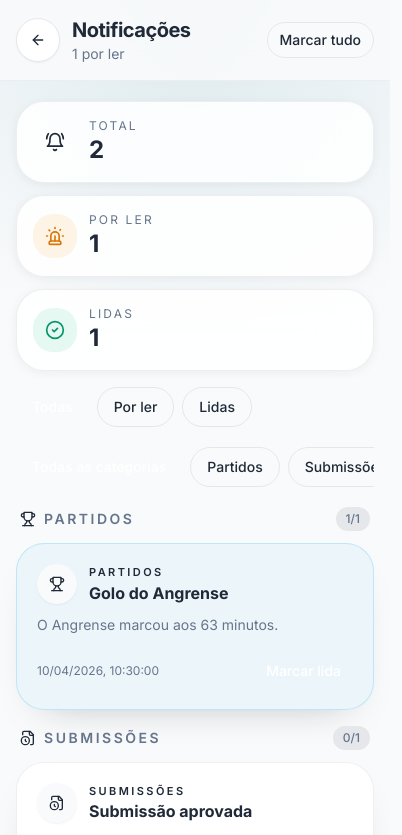
NotificationsPage › groups notifications by category and filters unread items
The width and height of the screenshot is (402, 835).
Expected: the heading "Partidos" is shown, left=44, top=509, right=134, bottom=529
Expected: the heading "Submissões" is shown, left=44, top=728, right=161, bottom=748
Step 1. Click the button "Por ler" → {"x": 136, "y": 407}, box left=97, top=387, right=174, bottom=427
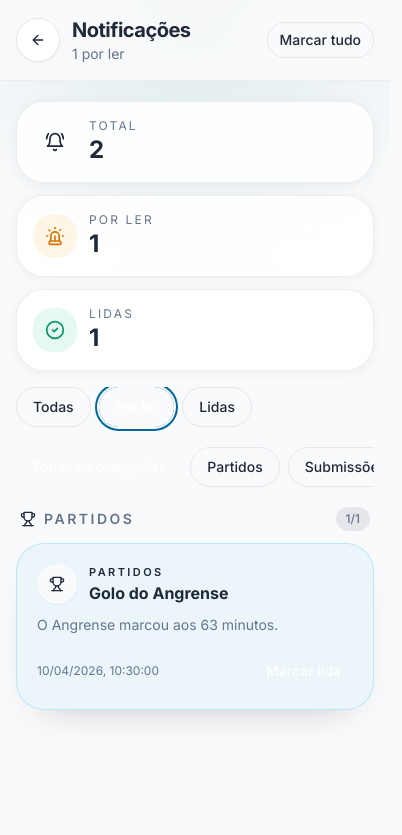
Expected: the heading "Golo do Angrense" is shown, left=89, top=580, right=229, bottom=604
Now the heading "Submissão aprovada" is gone
